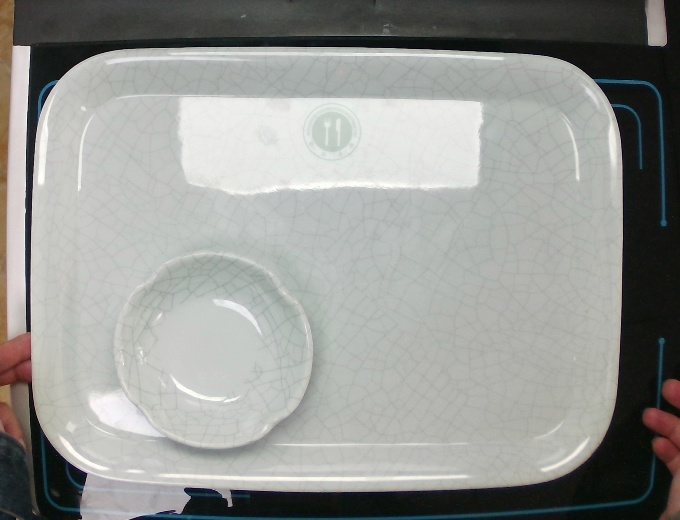JYsf-Ao_Yuan_Wan: (103, 248, 329, 460)
